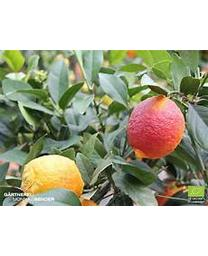lemon: (129, 95, 186, 158), (21, 154, 85, 197)
